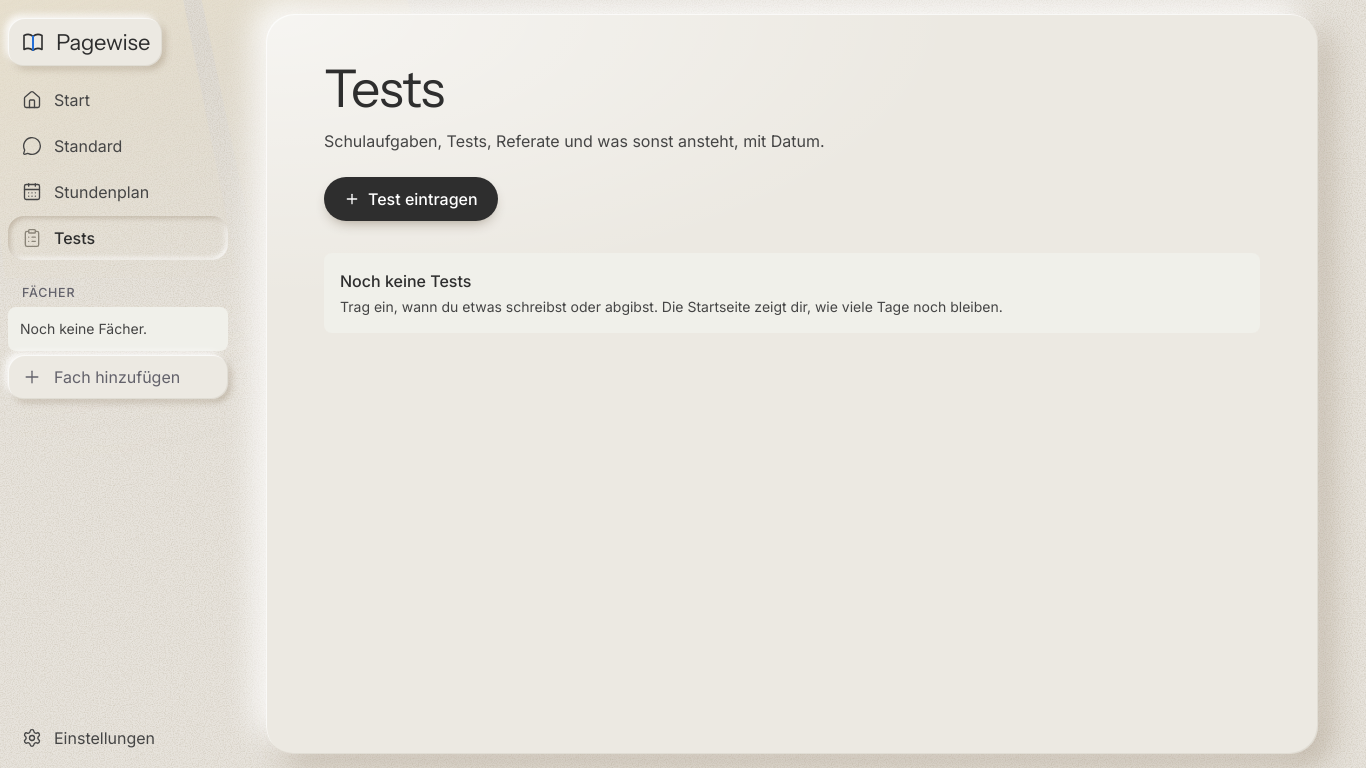
Tests › zeigt Leerzustand, verlangt ein Fach und trägt einen Test ein
This screenshot has width=1366, height=768.
Expected: the heading "Tests" is shown, [324,57,444,120]
Expected: the text "Noch keine Tests" is shown, [340,271,471,291]
Click the button "Test eintragen".
click(411, 199)  # box [324,177,498,221]
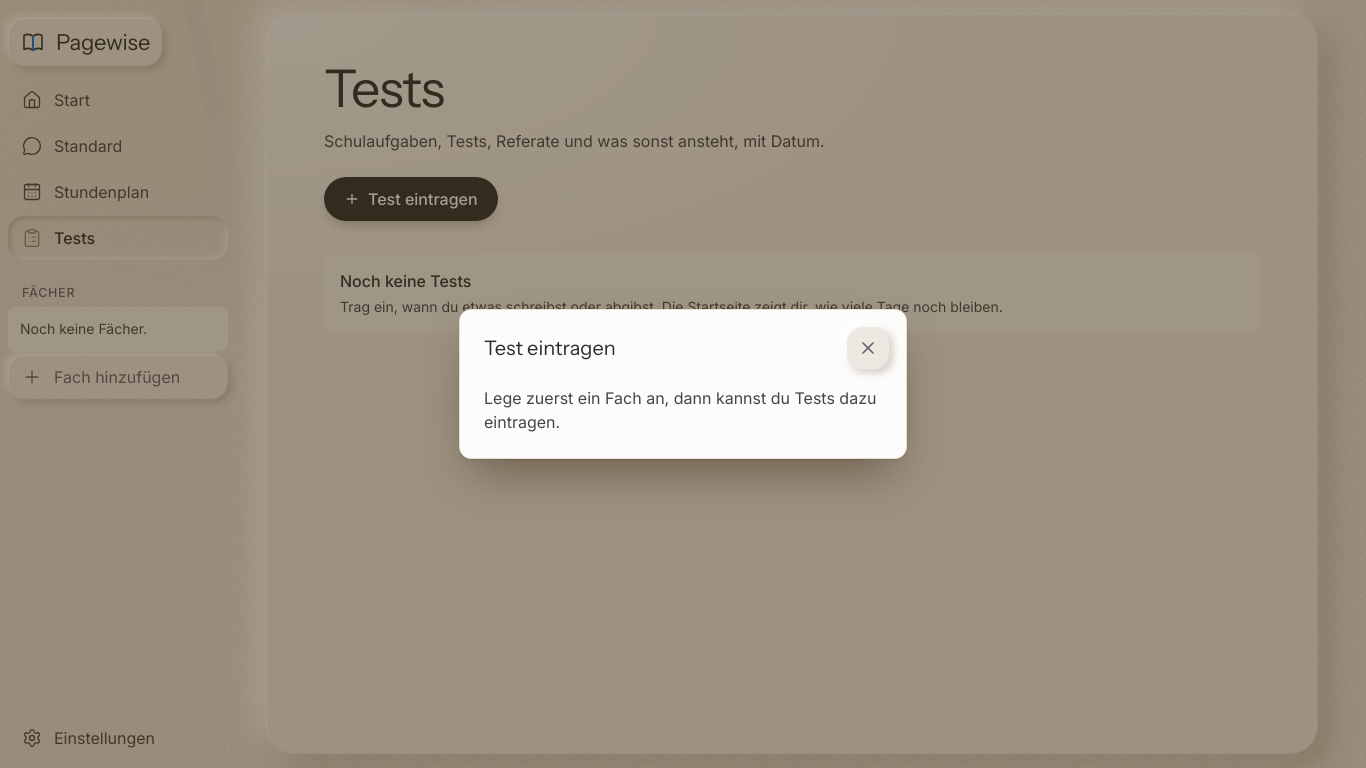
Result: the text "Lege zuerst ein Fach an" is shown at [484,388,876,432]
